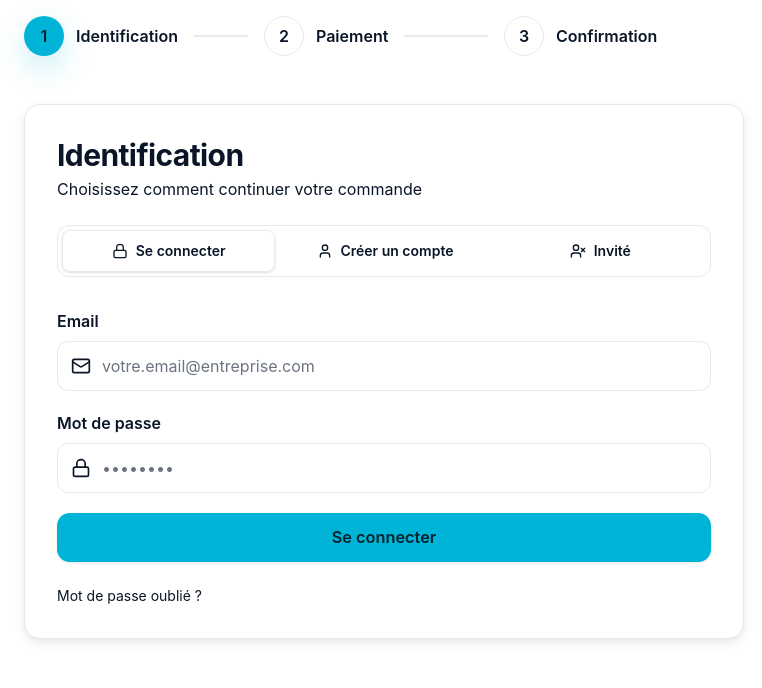
onglet inscription › affiche le formulaire d'inscription au clic
What coordinates should you click on to do the following:
click the button "Créer un compte"
I would click on:
 (385, 251)
Its box is [279, 230, 491, 272].
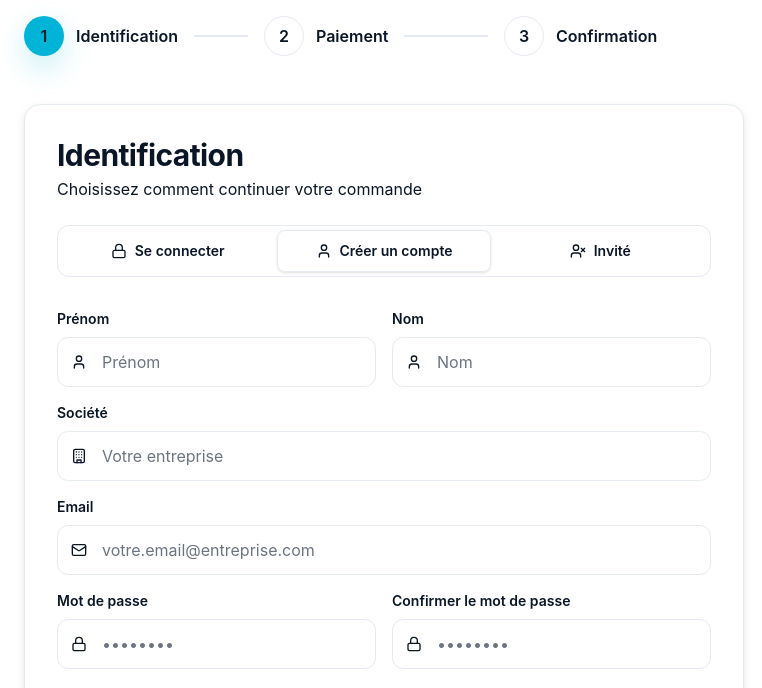
Now the field with placeholder "Prénom" is shown, box [57, 337, 376, 387]
Now the field with placeholder "Nom" is shown, box [392, 337, 711, 387]
